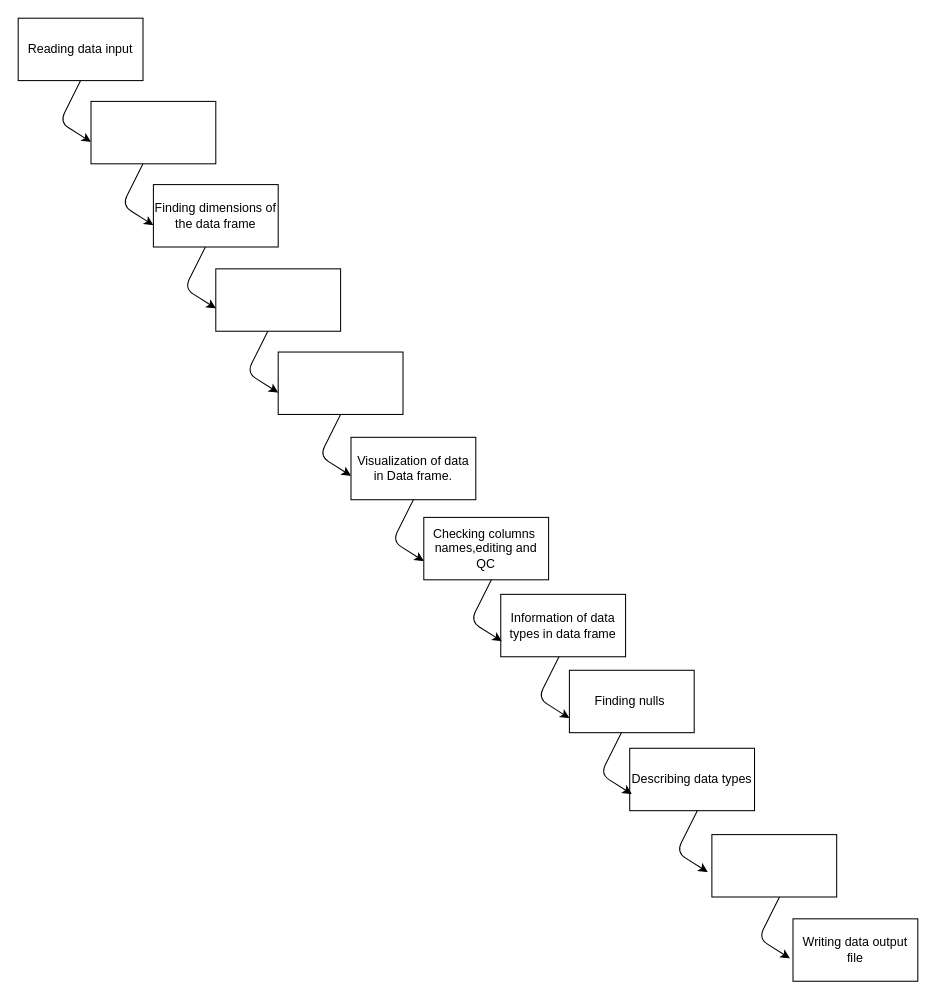
Some shapes in this 936 by 999 pixel diagram are drawn without their labels. Each missing label, with the centre of its shape:
"Checking permissions in the file" belongs at point 340,382.
"Continuing finding nulls" belongs at point 774,865.
"Determining existence of data in data frame" belongs at point 153,132.
"Size of the Input File" belongs at point 278,299.
